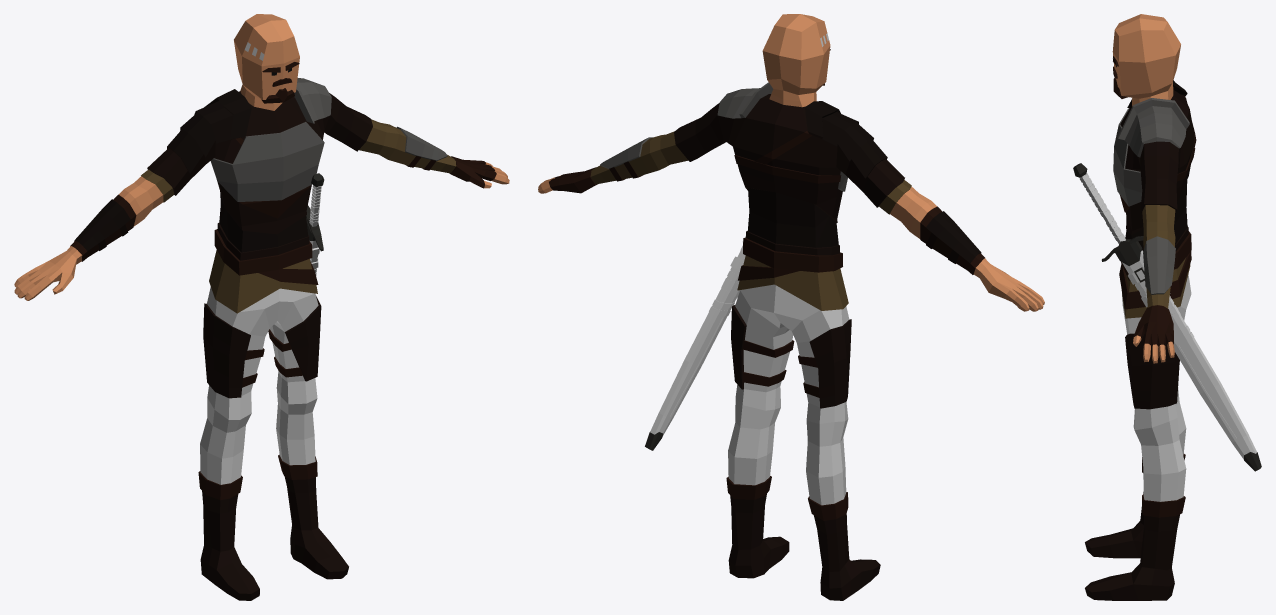
Rendered from Main_Charecter_V1.obj.
3 views of the same model, side by side, from view 1: azimuth 30°, elevation 25°; view 2: azimuth 150°, elevation 25°; view 3: azimuth 270°, elevation 25° (orthographic). The views are drawn at different scales.
Visible parts, largest first — view 1: Hero_Cube.169, Long_Sword_Cylinder.096; view 2: Hero_Cube.169, Long_Sword_Sheath_Cube.179; view 3: Hero_Cube.169, Long_Sword_Sheath_Cube.179, Long_Sword_Cylinder.096.
Part boxes in pixels (box(x1,y1,x2,y2)): Hero_Cube.169: box(14, 14, 509, 600); Long_Sword_Cylinder.096: box(306, 173, 324, 251); Hero_Cube.169: box(538, 14, 1044, 600); Long_Sword_Sheath_Cube.179: box(645, 245, 745, 450); Hero_Cube.169: box(1085, 14, 1196, 600); Long_Sword_Sheath_Cube.179: box(1115, 241, 1261, 471); Long_Sword_Cylinder.096: box(1073, 163, 1143, 261).
Size of the model in its own units: 2.28 by 2.45 by 0.7548.
